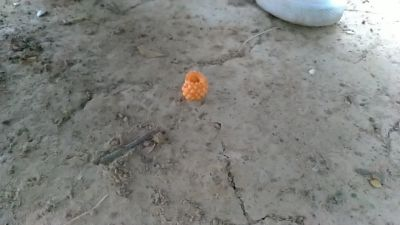eggs: (179, 68, 205, 103)
